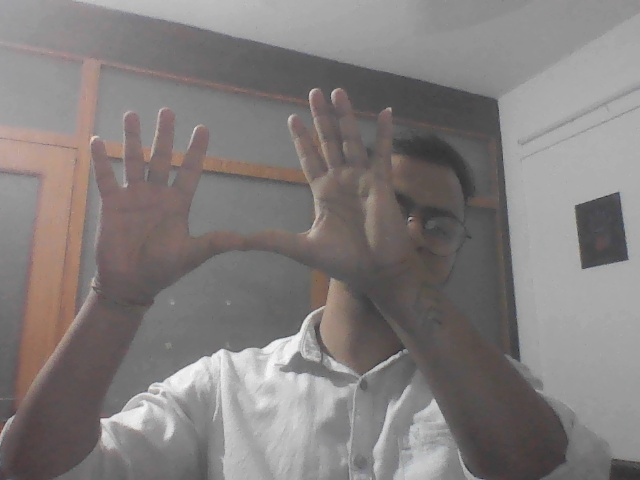Cheers: (80, 78, 415, 311)
